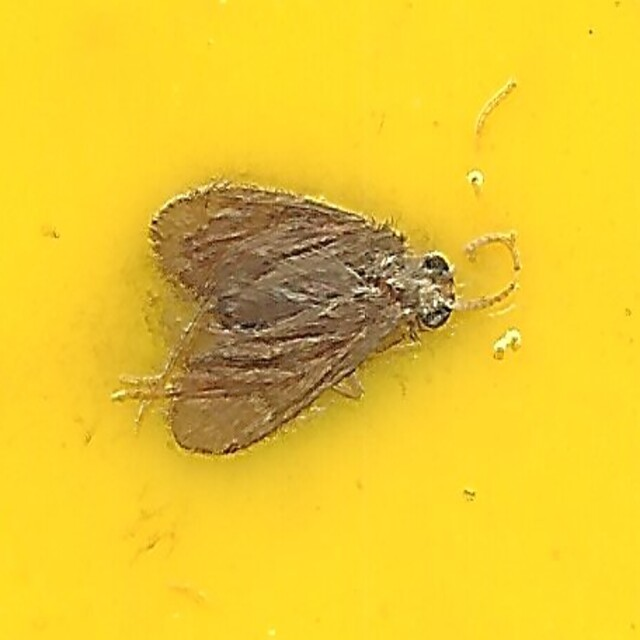Trichoptera: (140, 176, 500, 464)
